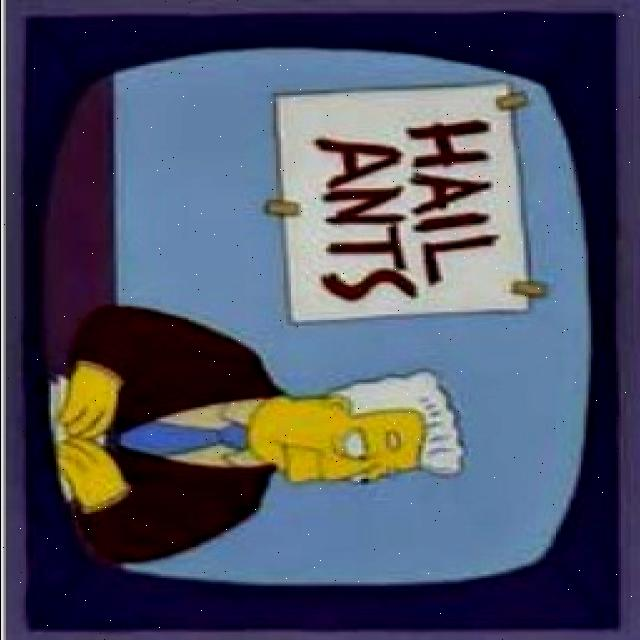Kent Brockman: (236, 364, 468, 492)
